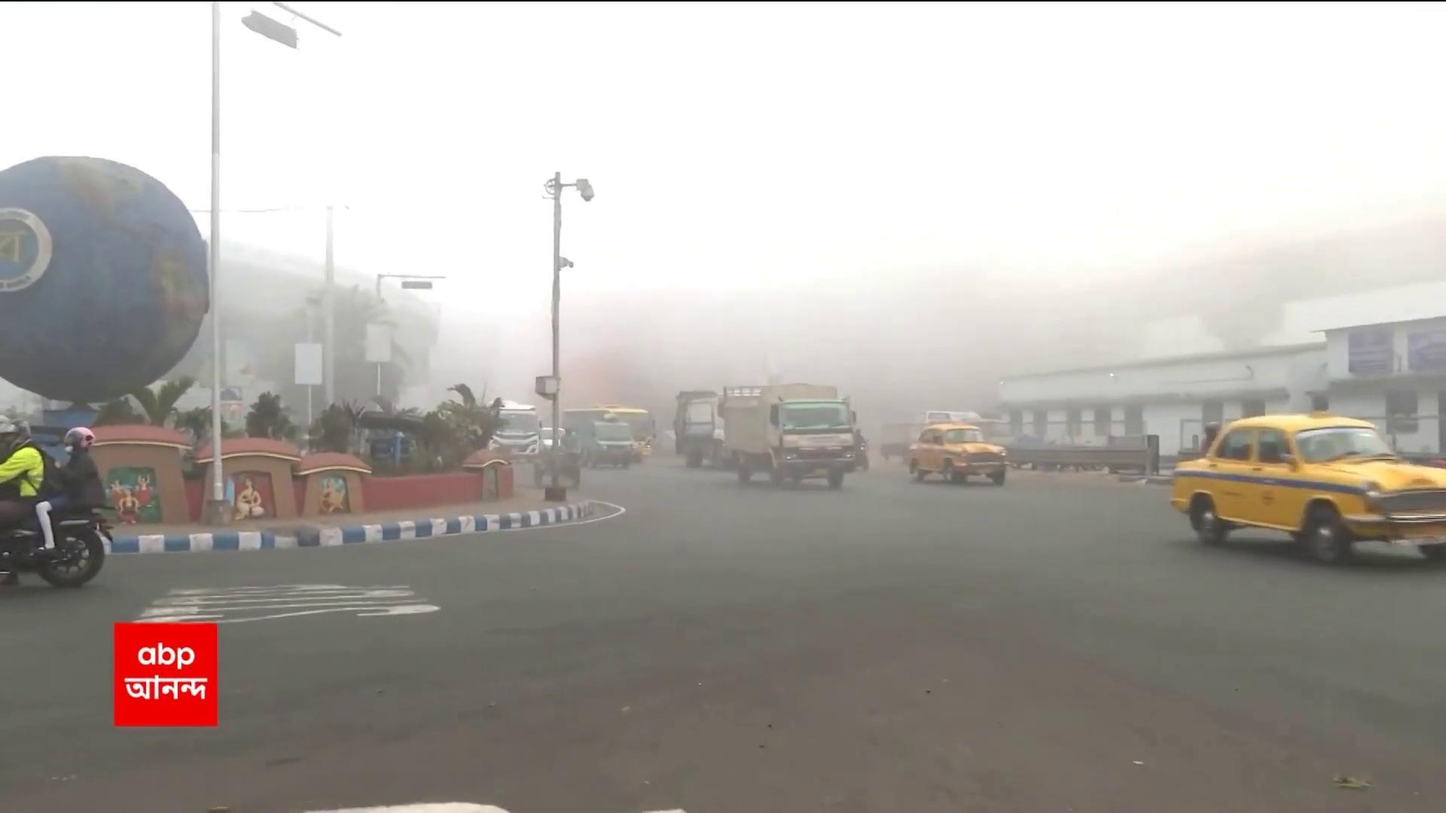Car: (1176, 406, 1443, 557), (905, 420, 1004, 484)
Truck: (717, 378, 861, 497)
